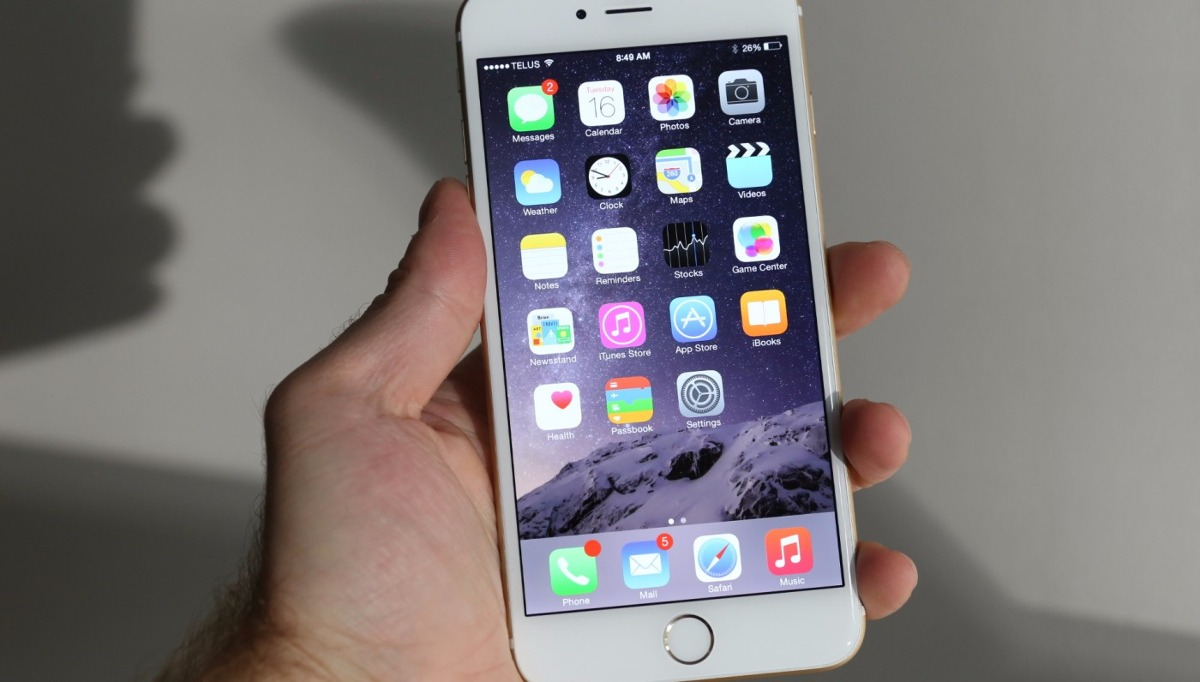smartphone: (455, 1, 866, 682)
